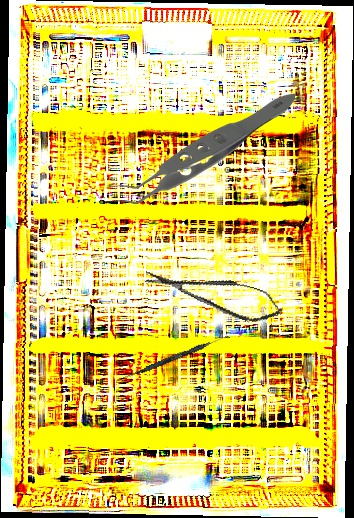Micro Scissor: (141, 256, 286, 330)
Spatula Surgical: (122, 331, 231, 383)
Tissue Forceps: (105, 93, 295, 204)
